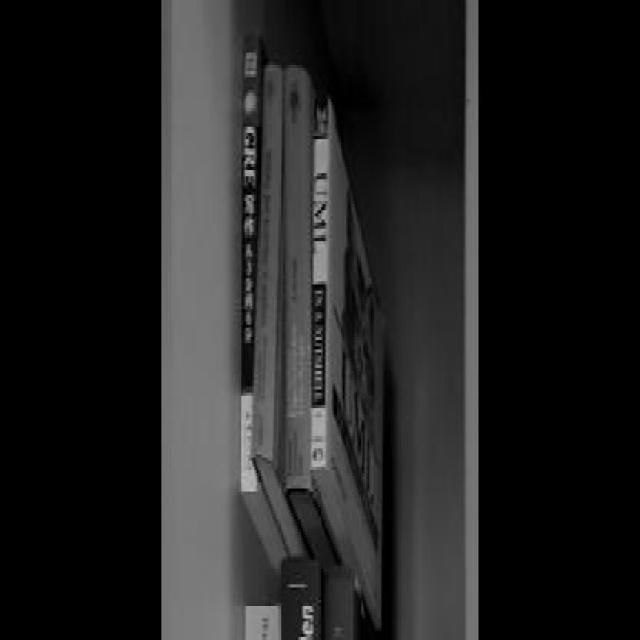book: (313, 94, 386, 640), (253, 65, 284, 558), (287, 62, 317, 519)
